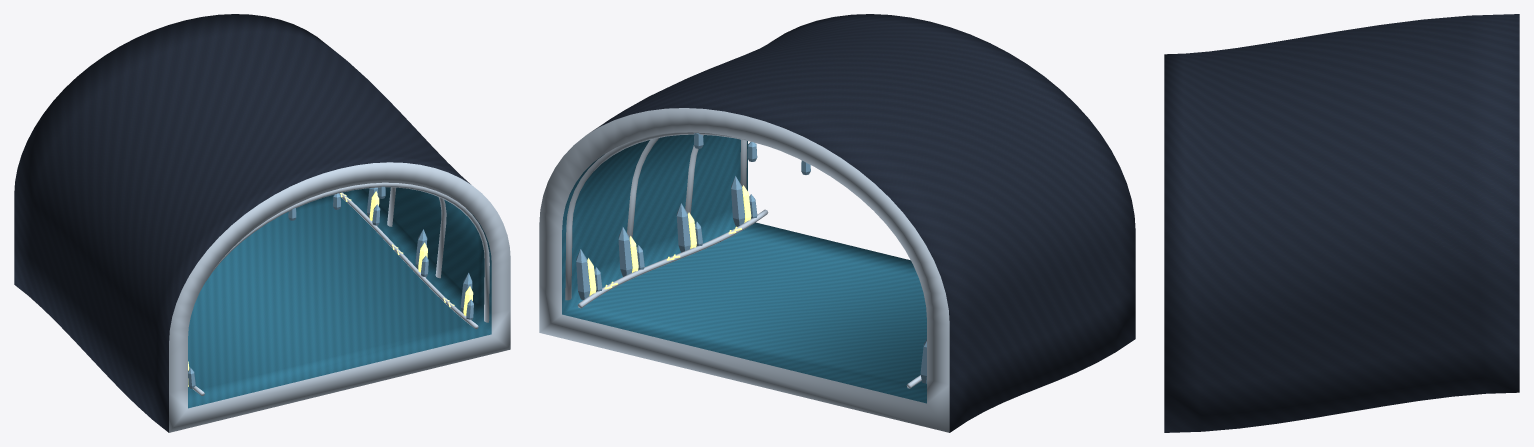
File: grade_up.glb
3 views of the same model, side by side, from view 1: azimuth 30°, elevation 25°; view 2: azimuth 150°, elevation 25°; view 3: azimuth 270°, elevation 25° (orthographic). The views are drawn at different scales.
Visible parts, largest first — view 1: TunnelGeometry; view 2: TunnelGeometry; view 3: TunnelGeometry.
Part boxes in pixels (<box>): TunnelGeometry: <box>14,14,510,432</box>; TunnelGeometry: <box>539,14,1135,432</box>; TunnelGeometry: <box>1164,14,1519,432</box>.
Size of the model in its own units: 15.3 by 11.02 by 12.
Materials: 5 (2 with a texture image).
